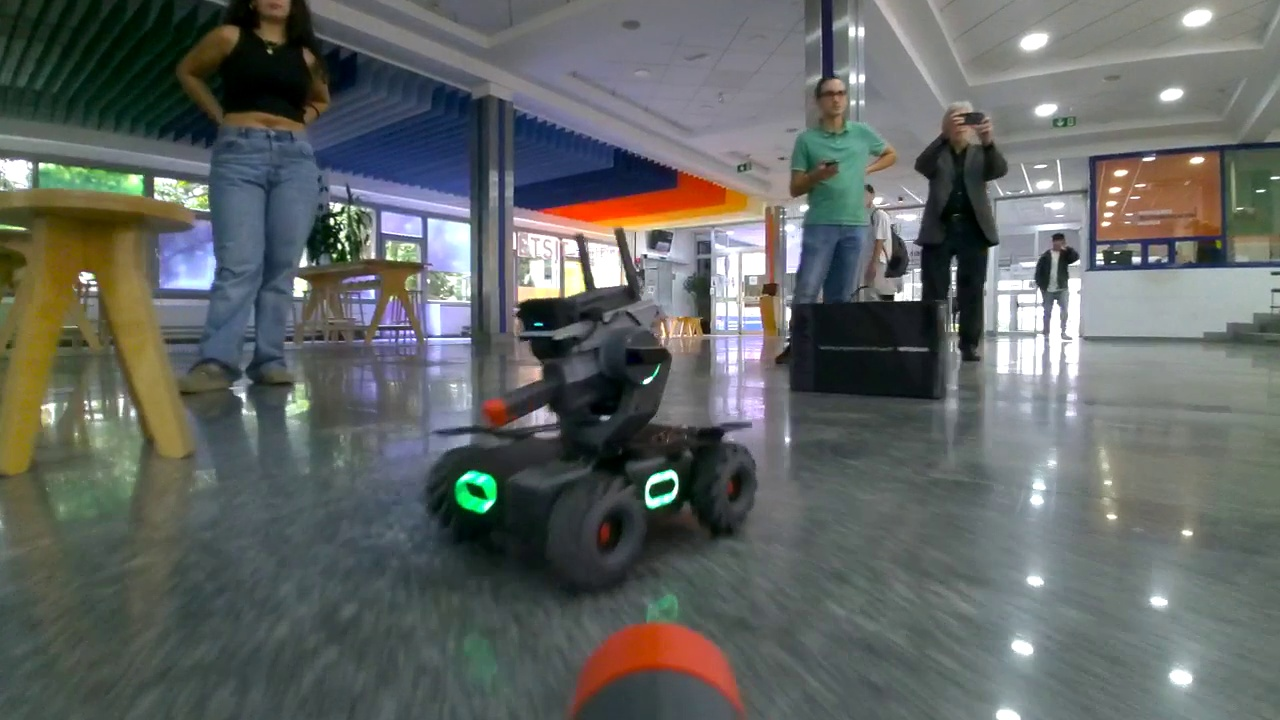robot: (422, 286, 758, 597)
